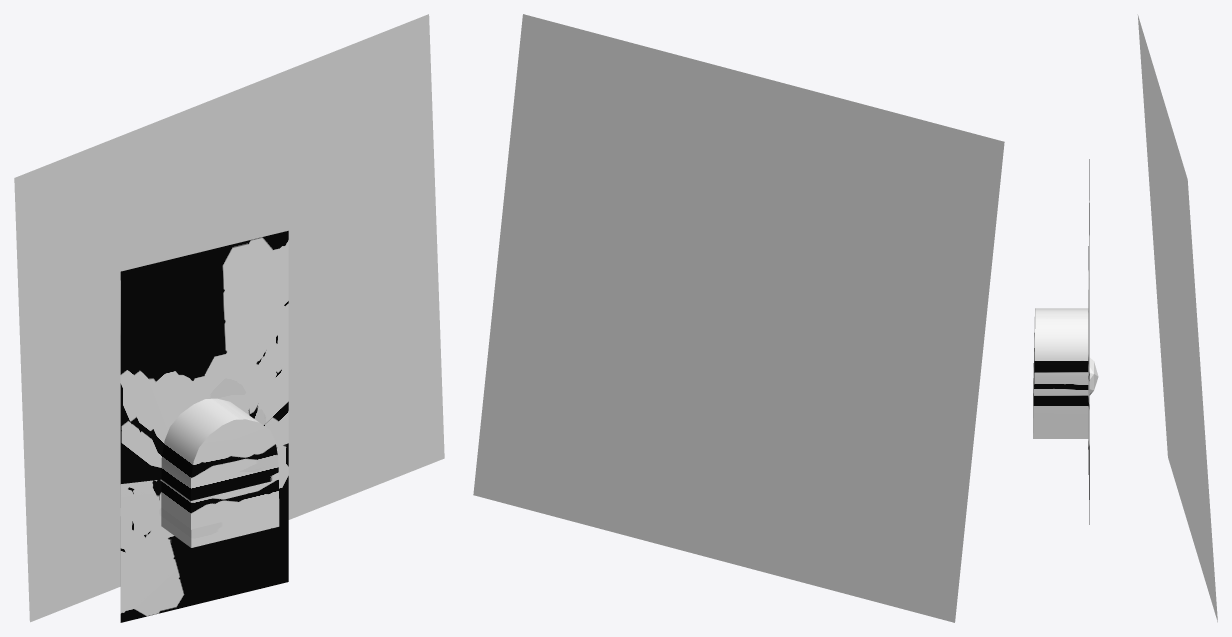
Rendered from MultistableMerge_Onion (5).fbx.
3 views of the same model, side by side, from view 1: azimuth 30°, elevation 25°; view 2: azimuth 150°, elevation 25°; view 3: azimuth 270°, elevation 25° (orthographic). The views are drawn at different scales.
Visible parts, largest first — view 1: orb (2), MultistableMerge_Onion (5); view 2: orb (2); view 3: orb (2), MultistableMerge_Onion (5).
Part boxes in pixels (x1=…): orb (2): x1=14, y1=14, x2=444, y2=622; MultistableMerge_Onion (5): x1=120, y1=230, x2=288, y2=622; orb (2): x1=473, y1=14, x2=1004, y2=622; orb (2): x1=1137, y1=14, x2=1217, y2=622; MultistableMerge_Onion (5): x1=1033, y1=159, x2=1089, y2=524.
Size of the model in its own units: 2.82 by 2.85 by 1.03.
